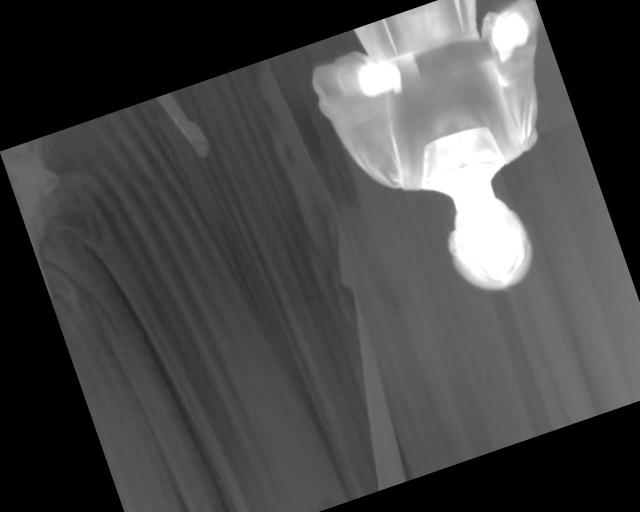face: (432, 184, 544, 304)
